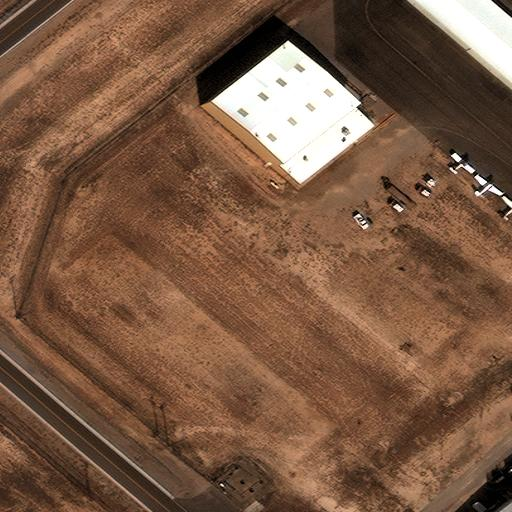Small Civil Transport: (477, 173, 503, 196), (450, 152, 475, 172), (503, 195, 512, 218)
